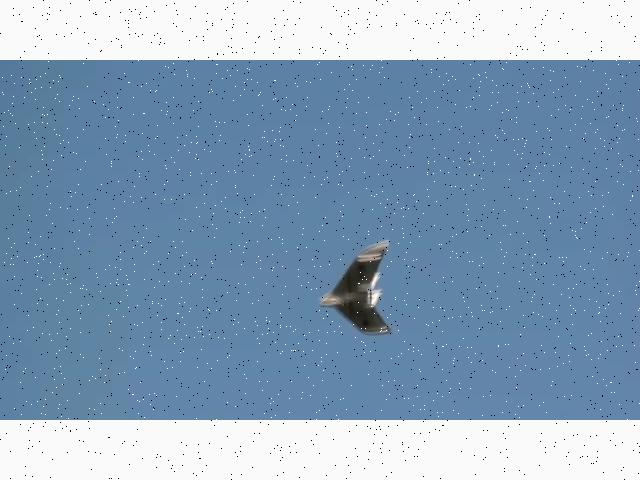Anti-Drone: (320, 241, 394, 335)
